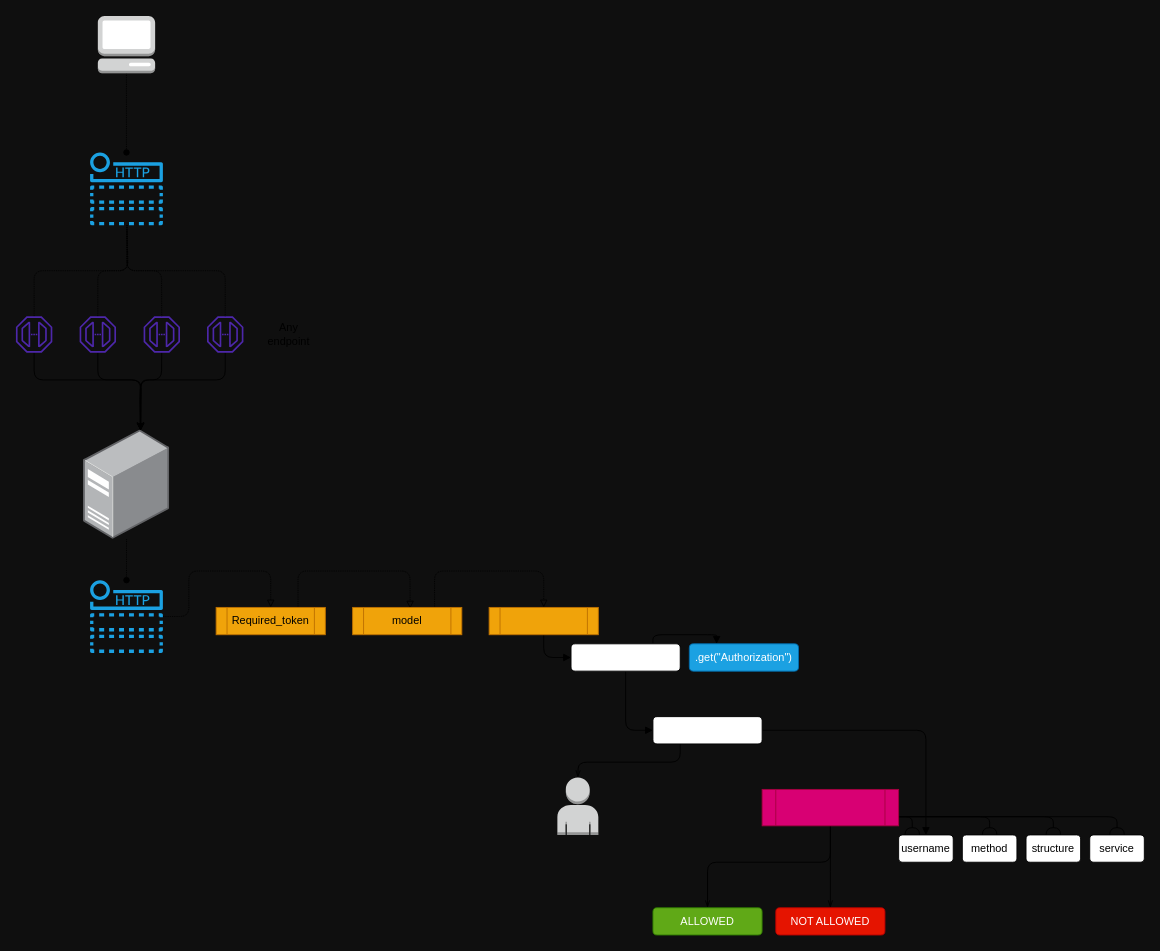
Image size: 1160x951. Some labels were removed from this diagram. Here are the shapes that lost their labels. From the top down, the centre of each, then its label:
At (x=543, y=621): "IAM".
At (x=625, y=657): "request.header".
At (x=707, y=730): "username_per_token".
At (x=830, y=807): "check_permission".
